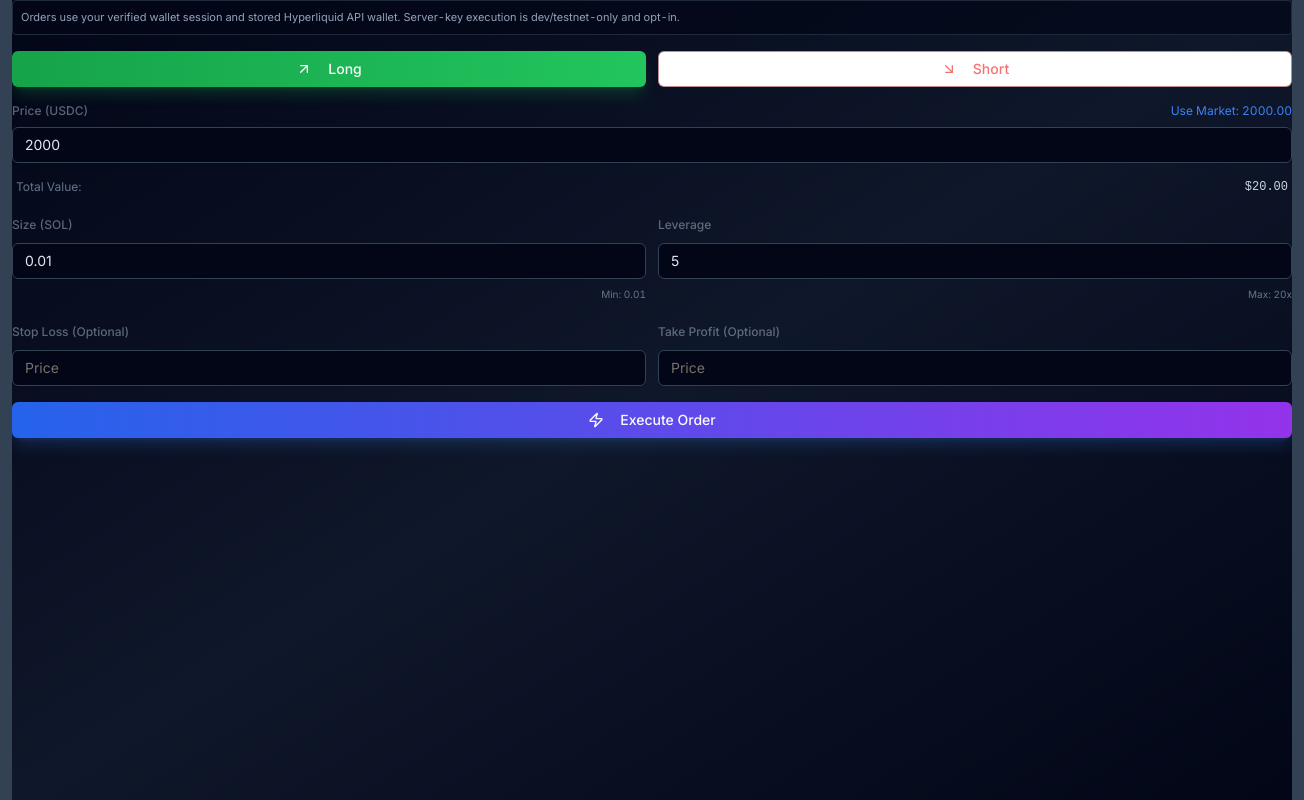
Test case: TradeForm › displays error when wallet is not connected
The width and height of the screenshot is (1304, 800).
Click the button "Execute Order" at (652, 420), box [12, 402, 1292, 438]
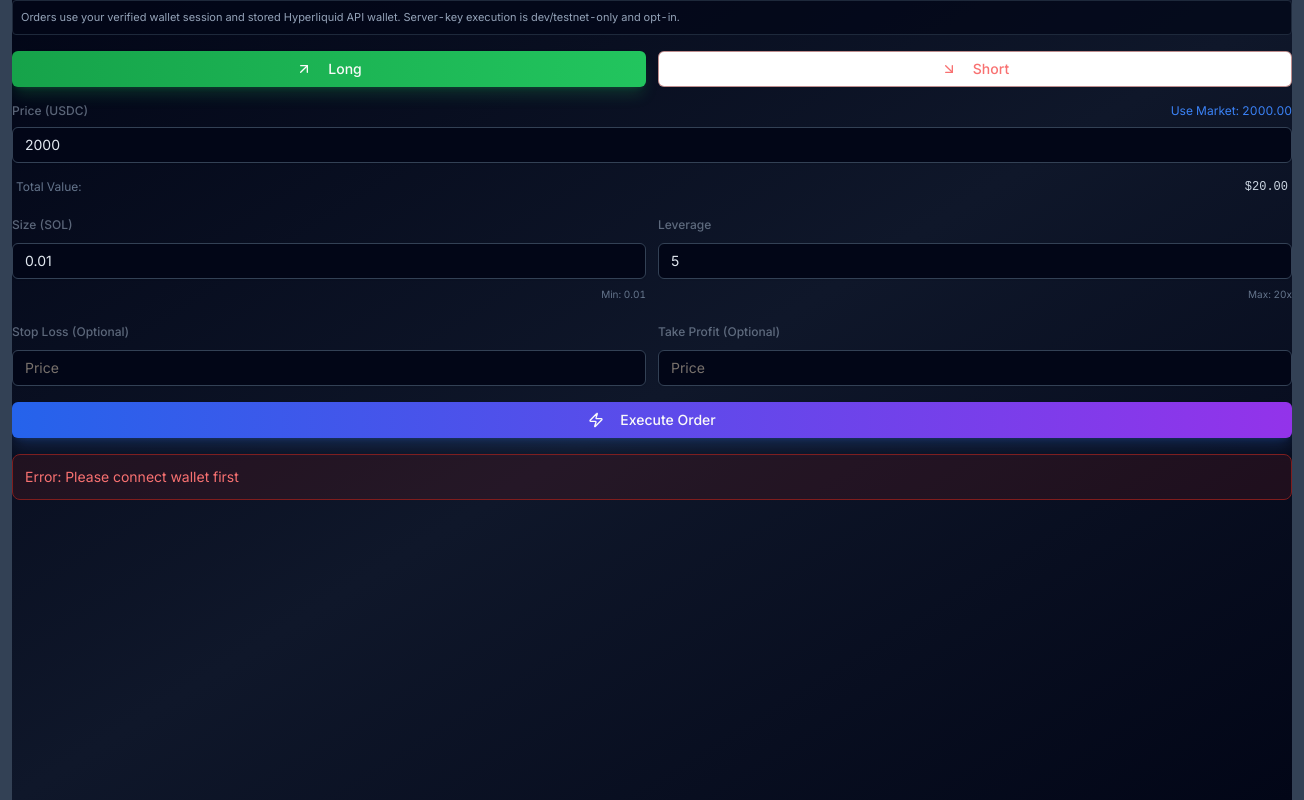
Expected: the text "Error: Please connect wallet first" is shown, [25, 468, 239, 484]
